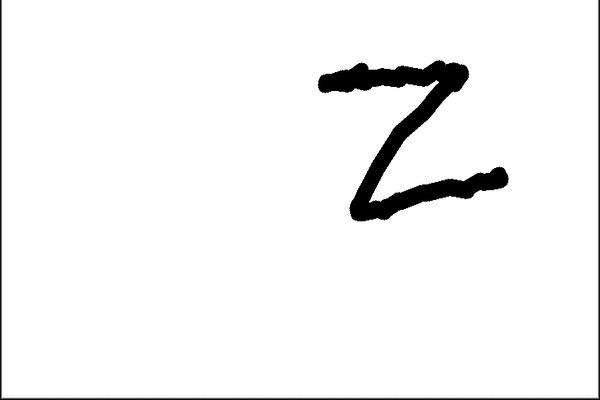Z: (304, 46, 522, 231)
